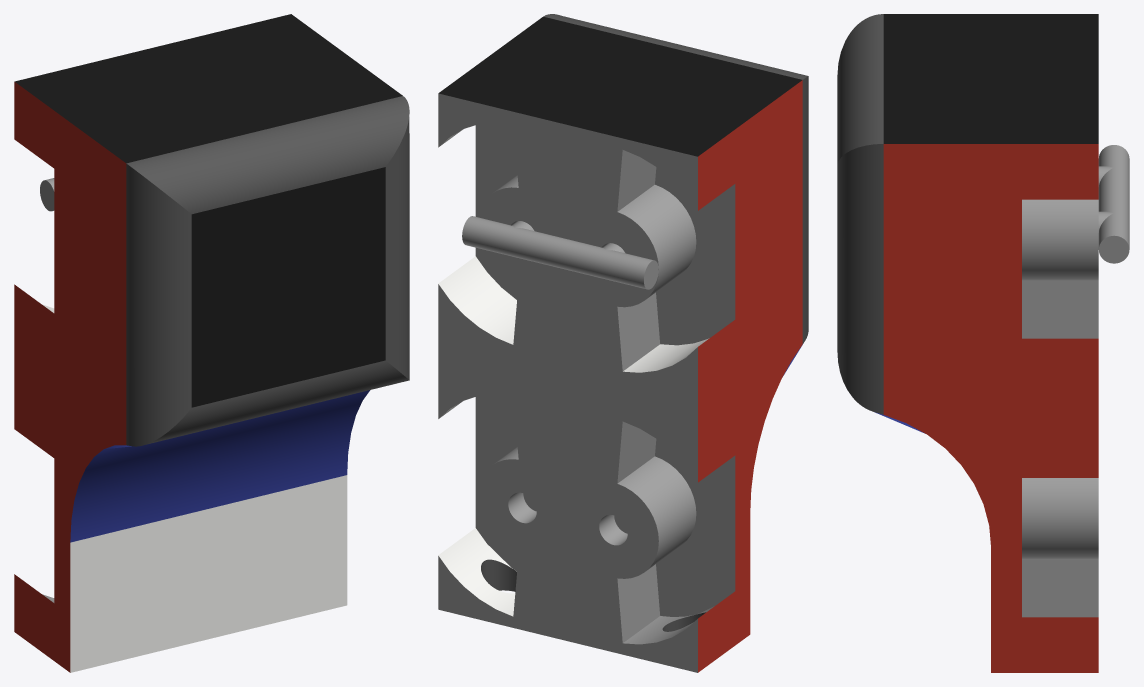
The model's file is Chassis.dae.
3 views of the same model, side by side, from view 1: azimuth 30°, elevation 25°; view 2: azimuth 150°, elevation 25°; view 3: azimuth 270°, elevation 25° (orthographic). The views are drawn at different scales.
Parts seen in each view (by area): view 1: Body1_ncl1_4, Body1_ncl1_2, Body1_ncl1_6, Body1_ncl1_8, Body1_ncl1_10; view 2: Body1, Body1_ncl1_6, Body1_ncl1_4, Body1_ncl1_8, Body2, Body1_ncl1_2; view 3: Body1_ncl1_6, Body1_ncl1_4, Body1, Body1_ncl1_2, Body2.
Part boxes in pixels (bbox=[...]): Body1_ncl1_4: bbox=[14, 14, 402, 407]; Body1_ncl1_2: bbox=[126, 96, 409, 446]; Body1_ncl1_6: bbox=[14, 82, 126, 672]; Body1_ncl1_8: bbox=[42, 304, 347, 672]; Body1_ncl1_10: bbox=[70, 390, 370, 542]; Body1: bbox=[438, 93, 735, 672]; Body1_ncl1_6: bbox=[698, 80, 802, 672]; Body1_ncl1_4: bbox=[438, 16, 801, 156]; Body1_ncl1_8: bbox=[438, 130, 709, 616]; Body2: bbox=[462, 216, 658, 289]; Body1_ncl1_2: bbox=[481, 14, 808, 631]; Body1_ncl1_6: bbox=[883, 144, 1098, 672]; Body1_ncl1_4: bbox=[883, 14, 1098, 143]; Body1: bbox=[1022, 199, 1098, 617]; Body1_ncl1_2: bbox=[837, 14, 883, 414]; Body2: bbox=[1098, 145, 1129, 263].
Size of the model in its own units: 0.508 by 0.9652 by 0.4828.
